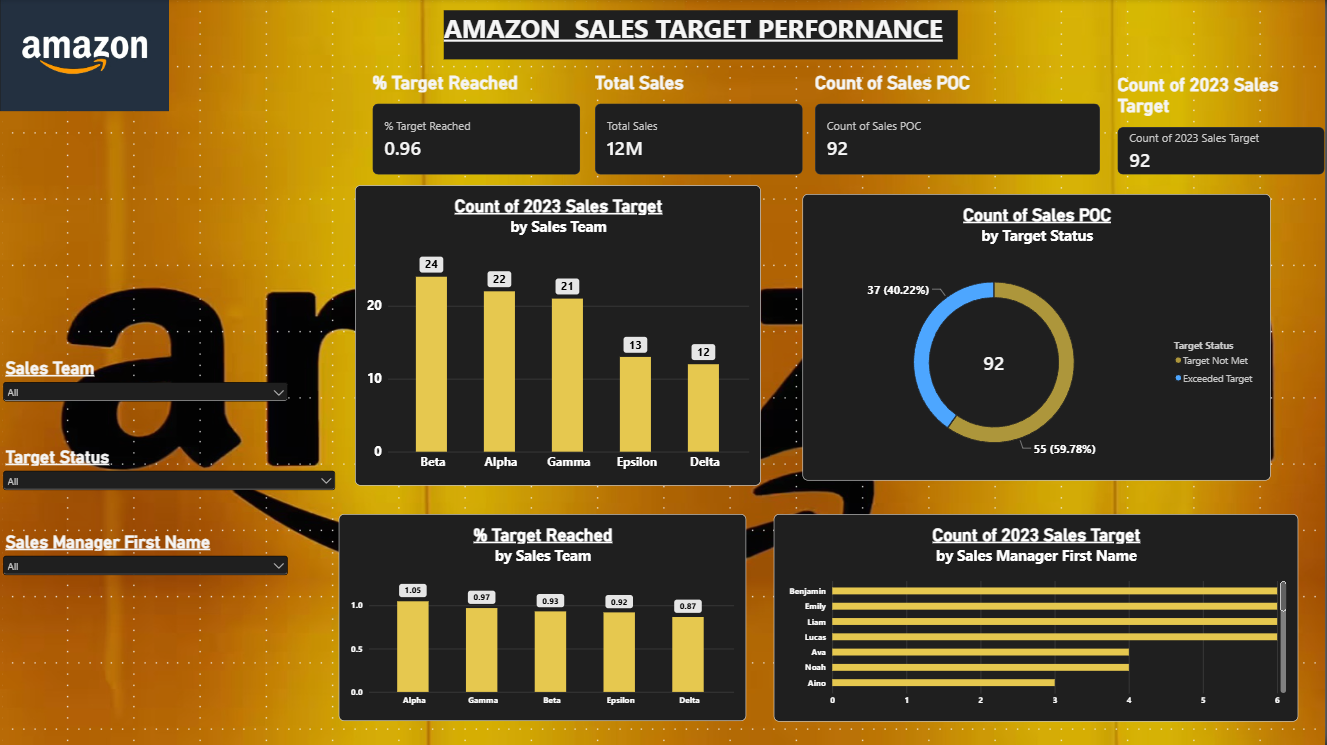

The dashboard page shown, as its layout file describes it:
{"tool":"powerbi","page":{"name":"Sales Target Performance","canvas":[1920,1080],"ordinal":2},"visuals":[{"type":"donutChart","fields":{"Category":["Sales Targets.Target Status"],"Y":["CountNonNull(Sales Targets.Sales POC)"]},"box":[1162.4,281.7,678.3,415.3],"z":0},{"type":"columnChart","fields":{"Category":["Sales Targets.Sales Team"],"Y":["CountNonNull(Sales Targets.2023 Sales Target)"]},"box":[513.7,270.6,588.2,435.3],"z":1000},{"type":"clusteredBarChart","fields":{"Category":["Sales Targets.Sales Manager First Name","Sales Targets.Sales Manager Last Name"],"Y":["CountNonNull(Sales Targets.2023 Sales Target)"]},"box":[1120.7,747.1,759.7,300.5],"z":2000},{"type":"clusteredColumnChart","fields":{"Y":["Sales Targets.% Target Reached"],"Category":["Sales Targets.Sales Team"]},"box":[490.2,747.1,590.2,300],"z":3000},{"type":"cardVisual","title":"Count of 2023 Sales Target","fields":{"Data":["CountNonNull(Sales Targets.2023 Sales Target)"]},"box":[1619.5,108.5,300.5,146.1],"z":4000},{"type":"cardVisual","title":"% Target Reached","fields":{"Data":["Sales Targets.% Target Reached"]},"box":[540.5,104.3,301,150],"z":5000},{"type":"cardVisual","title":"Total Sales","fields":{"Data":["Sales Targets.Total Sales"]},"box":[861.9,104.3,301,150],"z":6000},{"type":"slicer","fields":{"Values":["Sales Targets.Sales Team"]},"box":[0,519.7,421.6,100.2],"z":7000},{"type":"slicer","fields":{"Values":["Sales Targets.Sales Manager First Name"]},"box":[0,772.2,421.6,75.1],"z":8000},{"type":"slicer","fields":{"Values":["Sales Targets.Target Status"]},"box":[0,649,490.4,96],"z":9000},{"type":"cardVisual","title":"Count of Sales POC","fields":{"Data":["Count(Sales Targets.Sales POC)"]},"box":[1181.2,104.3,413.2,150.3],"z":10000},{"type":"textbox","box":[642.8,16.7,745,71],"z":11000},{"type":"image","box":[0,0,245.1,162.7],"z":11001}]}

Visuals, with their boxes in screenshot pixels (x1, y1, x2, y2), scaled from the page's 1920x1080 canvas onto the 1327x745 screenshot:
donutChart - Sales Targets.Target Status x CountNonNull(Sales Targets.Sales POC): select_region(803, 194, 1272, 481)
columnChart - Sales Targets.Sales Team x CountNonNull(Sales Targets.2023 Sales Target): select_region(355, 187, 762, 487)
clusteredBarChart - Sales Targets.Sales Manager First Name x Sales Targets.Sales Manager Last Name: select_region(775, 515, 1300, 723)
clusteredColumnChart - Sales Targets.% Target Reached x Sales Targets.Sales Team: select_region(339, 515, 747, 722)
"Count of 2023 Sales Target" cardVisual: select_region(1119, 75, 1326, 176)
"% Target Reached" cardVisual: select_region(374, 72, 582, 175)
"Total Sales" cardVisual: select_region(596, 72, 804, 175)
slicer - Sales Targets.Sales Team: select_region(0, 358, 291, 428)
slicer - Sales Targets.Sales Manager First Name: select_region(0, 533, 291, 584)
slicer - Sales Targets.Target Status: select_region(0, 448, 339, 514)
"Count of Sales POC" cardVisual: select_region(816, 72, 1102, 176)
textbox: select_region(444, 12, 959, 60)
image: select_region(0, 0, 169, 112)
